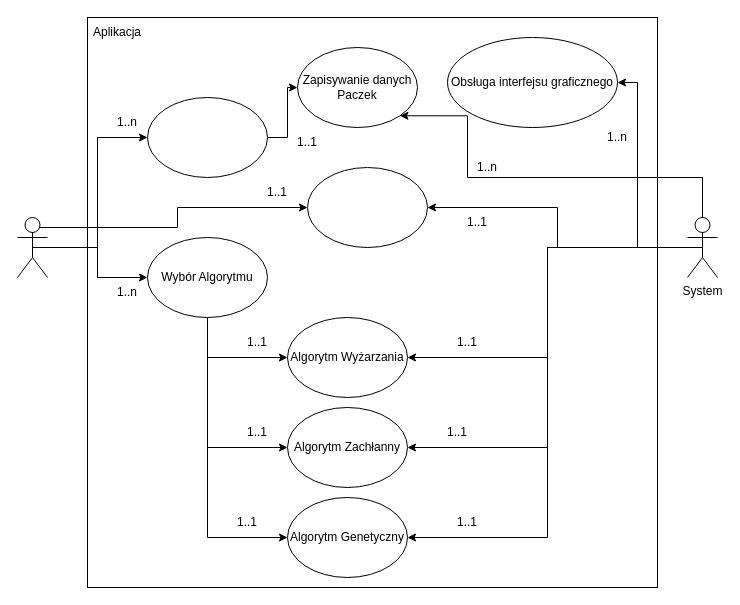
The diagram is 740 pixels wide and 605 high, and some of its shapes have lost their labels. Here are the shapes that lost their labels. From the top down, the centre of each, then its label:
At point 207,137: "Wprowadzanie Paczek".
At point 367,207: "Wyświetlanie aktualnej optymalnej trasy".
At point 32,247: "Klient".
